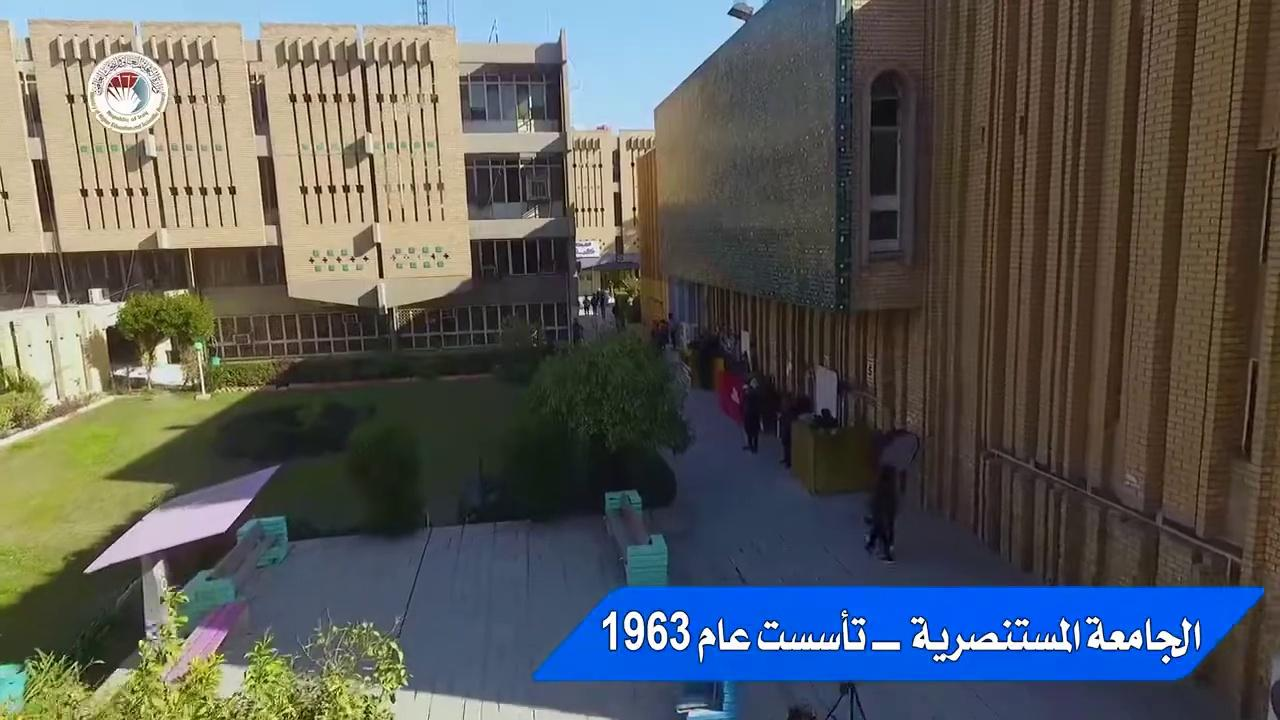person: (863, 463, 898, 561), (777, 392, 812, 467), (740, 374, 764, 453), (812, 407, 838, 429)
tree: (13, 574, 411, 718), (525, 325, 693, 510), (343, 418, 426, 534), (114, 289, 172, 391), (158, 288, 216, 390), (493, 311, 542, 381), (605, 272, 640, 329)
